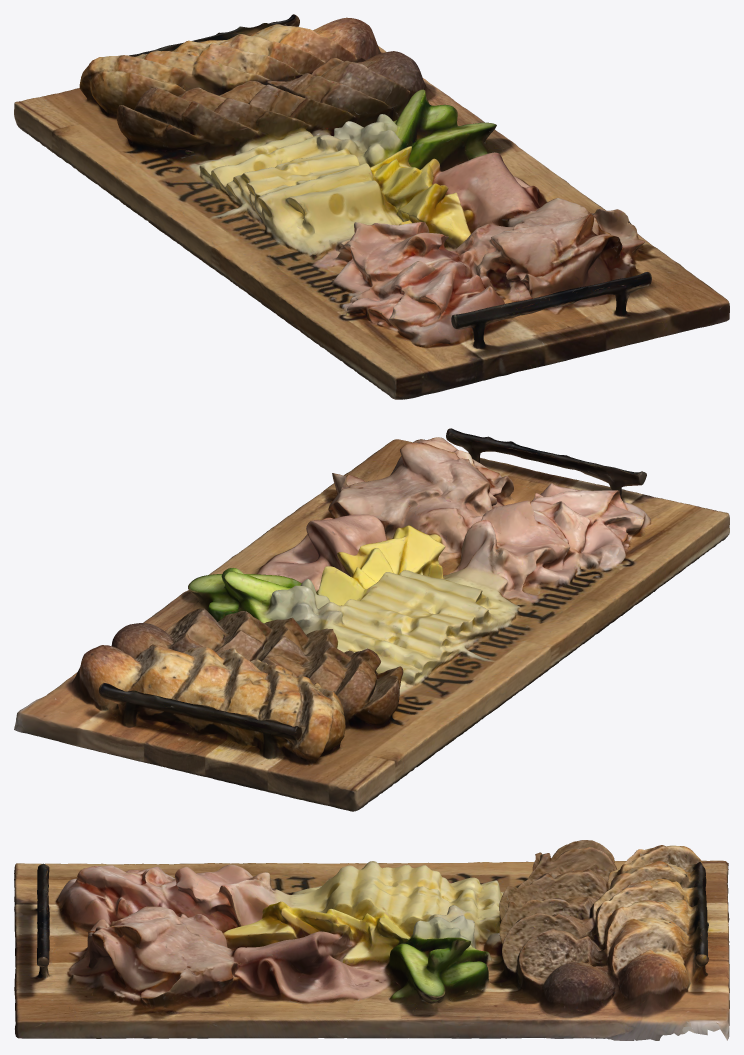
Rendered from daska.glb.
The picture shows the model from 3 angles, top to bottom: view 1: azimuth 30°, elevation 25°; view 2: azimuth 150°, elevation 25°; view 3: azimuth 270°, elevation 25°; orthographic projection. The views are drawn at different scales.
Parts seen in each view (by area): view 1: FoodAR; view 2: FoodAR; view 3: FoodAR.
Boxes of the visible parts, <box> form: FoodAR: <box>14,14,729,399</box>; FoodAR: <box>14,428,729,811</box>; FoodAR: <box>14,840,729,1040</box>.
Bounding box in the file's own units: 0.3242 × 0.07 × 0.6198.
1 material, 1 textured.
